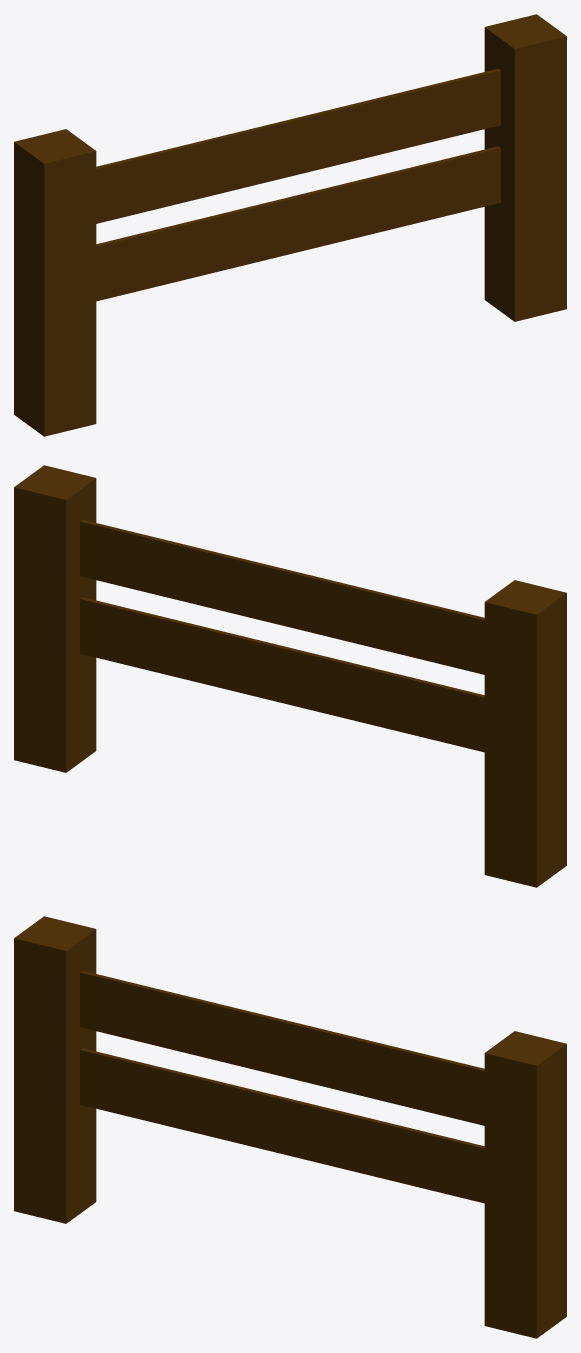
Rendered from fence1.fbx.
3 renders of one model, top to bottom at view 1: azimuth 30°, elevation 25°; view 2: azimuth 150°, elevation 25°; view 3: azimuth 330°, elevation 25°, orthographic.
Parts seen in each view (by area): view 1: pCube9; view 2: pCube9; view 3: pCube9.
Part boxes in pixels (left/top/right/bottom): pCube9: left=14, top=14, right=566, bottom=436; pCube9: left=14, top=465, right=566, bottom=887; pCube9: left=14, top=916, right=566, bottom=1338.
Size of the model in its own units: 10 by 4.99 by 1.
